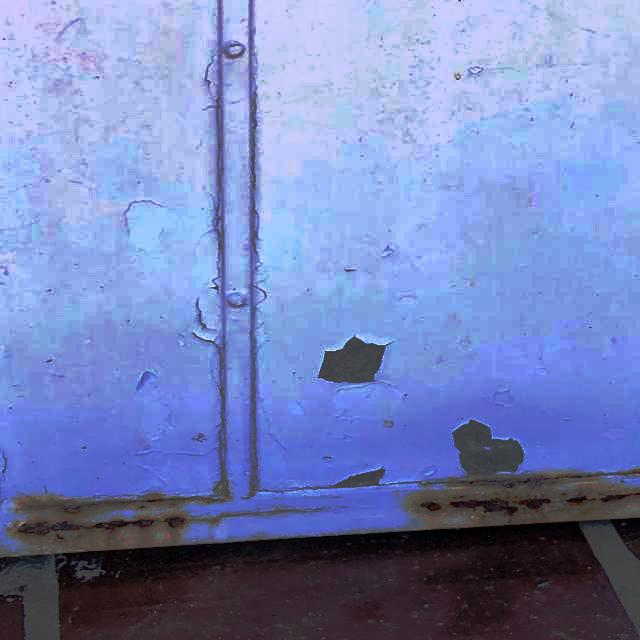Corrosion: (406, 471, 640, 528), (7, 490, 225, 548)
